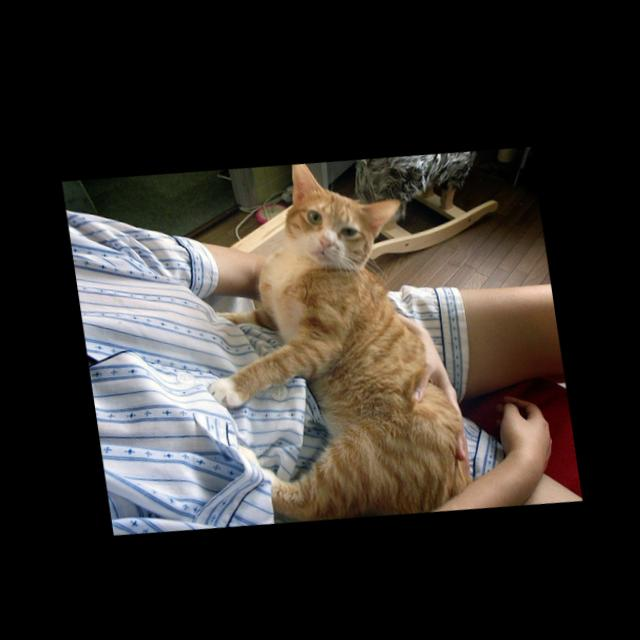animals: (290, 146, 406, 250)
